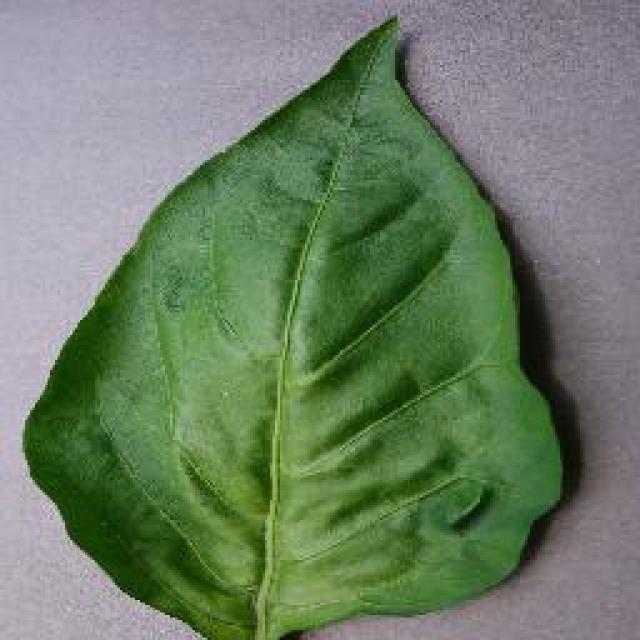Chilli_Healthy: (20, 12, 565, 638)
